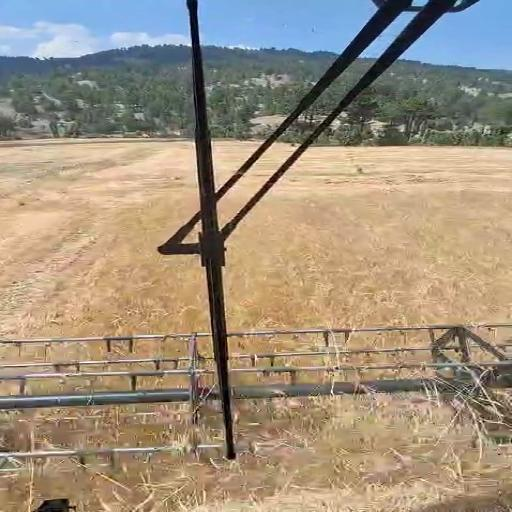bugday: (227, 148, 511, 329), (2, 184, 207, 335)
